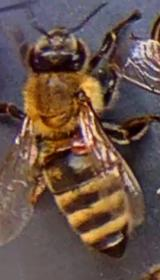varroa_mite: (65, 130, 98, 156)
